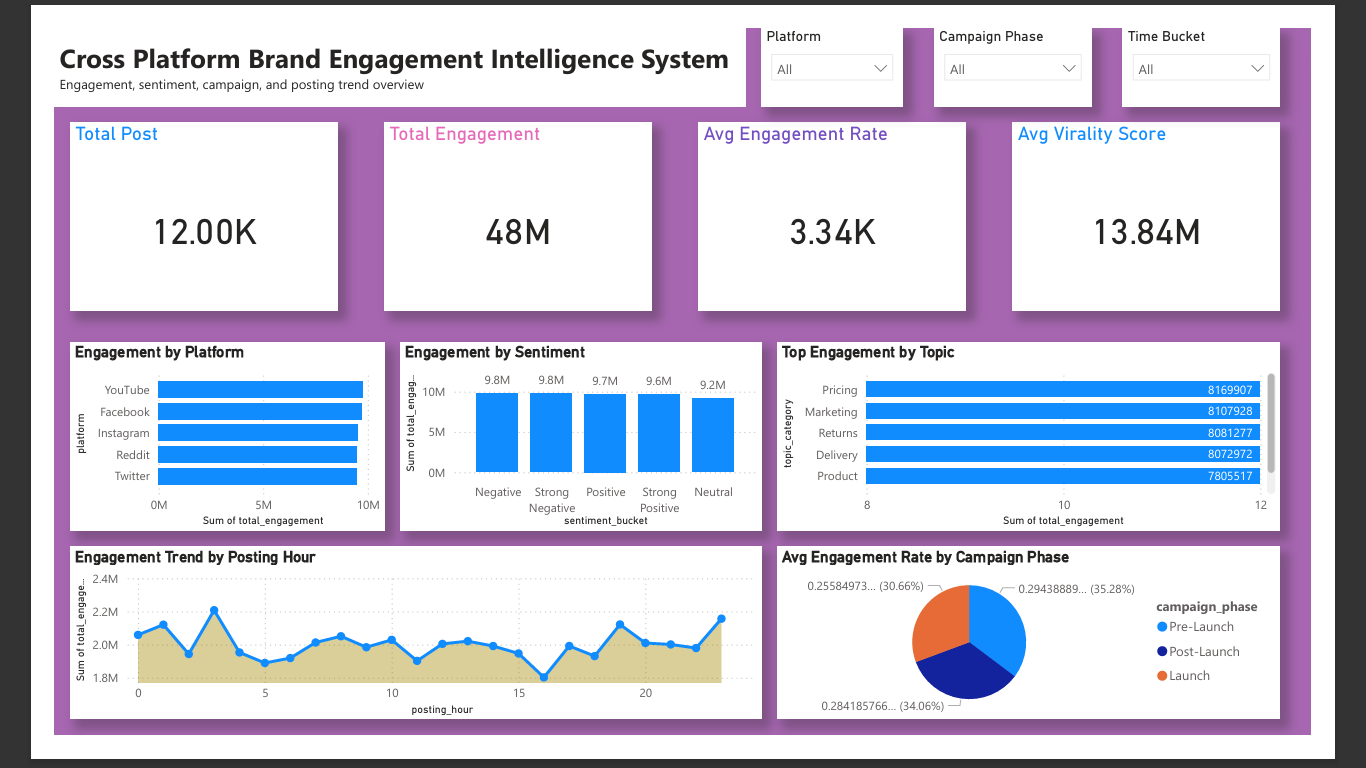

This screenshot's page, from the dashboard's own definition file:
{"tool":"powerbi","page":{"name":"Page 1","canvas":[1280,720],"ordinal":0},"visuals":[{"type":"textbox","box":[0,0,704,80],"z":0},{"type":"card","title":"Total Post","fields":{"Values":["CountNonNull(cleaned_social_media_engagement.post_id)"]},"box":[16,96,272,192],"z":1000},{"type":"card","title":"Total Engagement","fields":{"Values":["Sum(cleaned_social_media_engagement.total_engagement)"]},"box":[336,96,272,192],"z":2000},{"type":"card","title":"Avg Engagement Rate","fields":{"Values":["Sum(cleaned_social_media_engagement.engagement_rate)"]},"box":[656,96,272,192],"z":3000},{"type":"card","title":"Avg Virality Score","fields":{"Values":["Sum(cleaned_social_media_engagement.virality_score)"]},"box":[976,96,272,192],"z":4000},{"type":"clusteredBarChart","title":"Engagement by Platform","fields":{"Category":["cleaned_social_media_engagement.platform"],"Y":["Sum(cleaned_social_media_engagement.total_engagement)"]},"box":[16,320,320,192],"z":5000},{"type":"clusteredColumnChart","title":"Engagement by Sentiment","fields":{"Category":["cleaned_social_media_engagement.sentiment_bucket"],"Y":["Sum(cleaned_social_media_engagement.total_engagement)"]},"box":[352,320,368,192],"z":6000},{"type":"clusteredBarChart","title":"Top Engagement by Topic","fields":{"Category":["cleaned_social_media_engagement.topic_category"],"Y":["Sum(cleaned_social_media_engagement.total_engagement)"]},"box":[736,320,512,192],"z":7000},{"type":"areaChart","title":"Engagement Trend by Posting Hour","fields":{"Category":["cleaned_social_media_engagement.posting_hour"],"Y":["Sum(cleaned_social_media_engagement.total_engagement)"]},"box":[16,528,704,176],"z":8000},{"type":"pieChart","title":"Avg Engagement Rate by Campaign Phase","fields":{"Category":["cleaned_social_media_engagement.campaign_phase"],"Y":["Avg(cleaned_social_media_engagement.engagement_rate)"]},"box":[736,528,512,176],"z":9000},{"type":"slicer","title":"Platform","fields":{"Values":["cleaned_social_media_engagement.platform"]},"box":[720,0,144,80],"z":10000},{"type":"slicer","title":"Campaign Phase","fields":{"Values":["cleaned_social_media_engagement.campaign_phase"]},"box":[896,0,160,80],"z":11000},{"type":"slicer","title":"Time Bucket","fields":{"Values":["cleaned_social_media_engagement.posting_time_bucket"]},"box":[1088,0,160,80],"z":12000}]}

Visuals, with their boxes in screenshot pixels (x1, y1, x2, y2), scaled from the page's 1280x720 canvas onto the 1366x768 screenshot:
textbox: rect(0, 0, 751, 85)
"Total Post" card: rect(17, 102, 307, 307)
"Total Engagement" card: rect(359, 102, 649, 307)
"Avg Engagement Rate" card: rect(700, 102, 990, 307)
"Avg Virality Score" card: rect(1042, 102, 1332, 307)
"Engagement by Platform" clusteredBarChart: rect(17, 341, 359, 546)
"Engagement by Sentiment" clusteredColumnChart: rect(376, 341, 768, 546)
"Top Engagement by Topic" clusteredBarChart: rect(785, 341, 1332, 546)
"Engagement Trend by Posting Hour" areaChart: rect(17, 563, 768, 751)
"Avg Engagement Rate by Campaign Phase" pieChart: rect(785, 563, 1332, 751)
"Platform" slicer: rect(768, 0, 922, 85)
"Campaign Phase" slicer: rect(956, 0, 1127, 85)
"Time Bucket" slicer: rect(1161, 0, 1332, 85)
